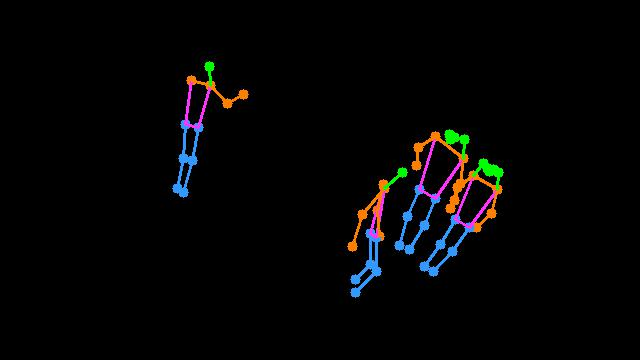normal: (338, 104, 518, 311)
